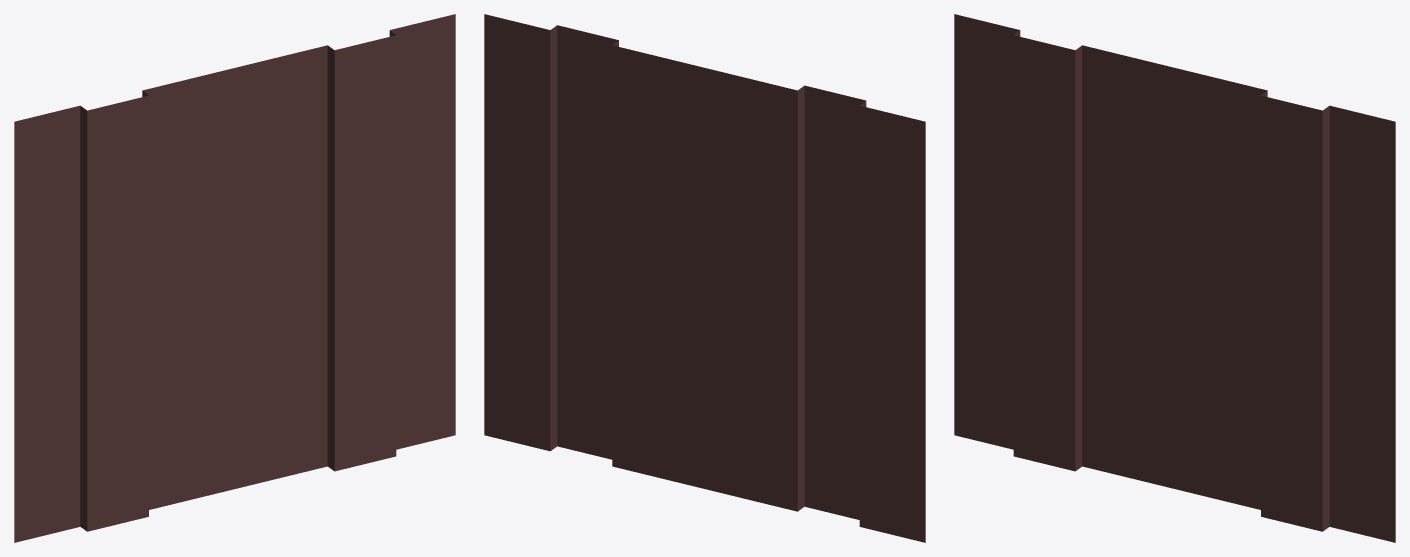
File: AlleyWallD_1.fbx
The picture shows the model from 3 angles, left to right: view 1: azimuth 30°, elevation 25°; view 2: azimuth 150°, elevation 25°; view 3: azimuth 330°, elevation 25°; orthographic projection.
Visible parts, largest first — view 1: AlleyWallD_1; view 2: AlleyWallD_1; view 3: AlleyWallD_1.
Part boxes in pixels (<box>): AlleyWallD_1: <box>14,14,455,542</box>; AlleyWallD_1: <box>484,14,925,542</box>; AlleyWallD_1: <box>954,14,1395,542</box>.
Size of the model in its own units: 220 by 201 by 5.91.
